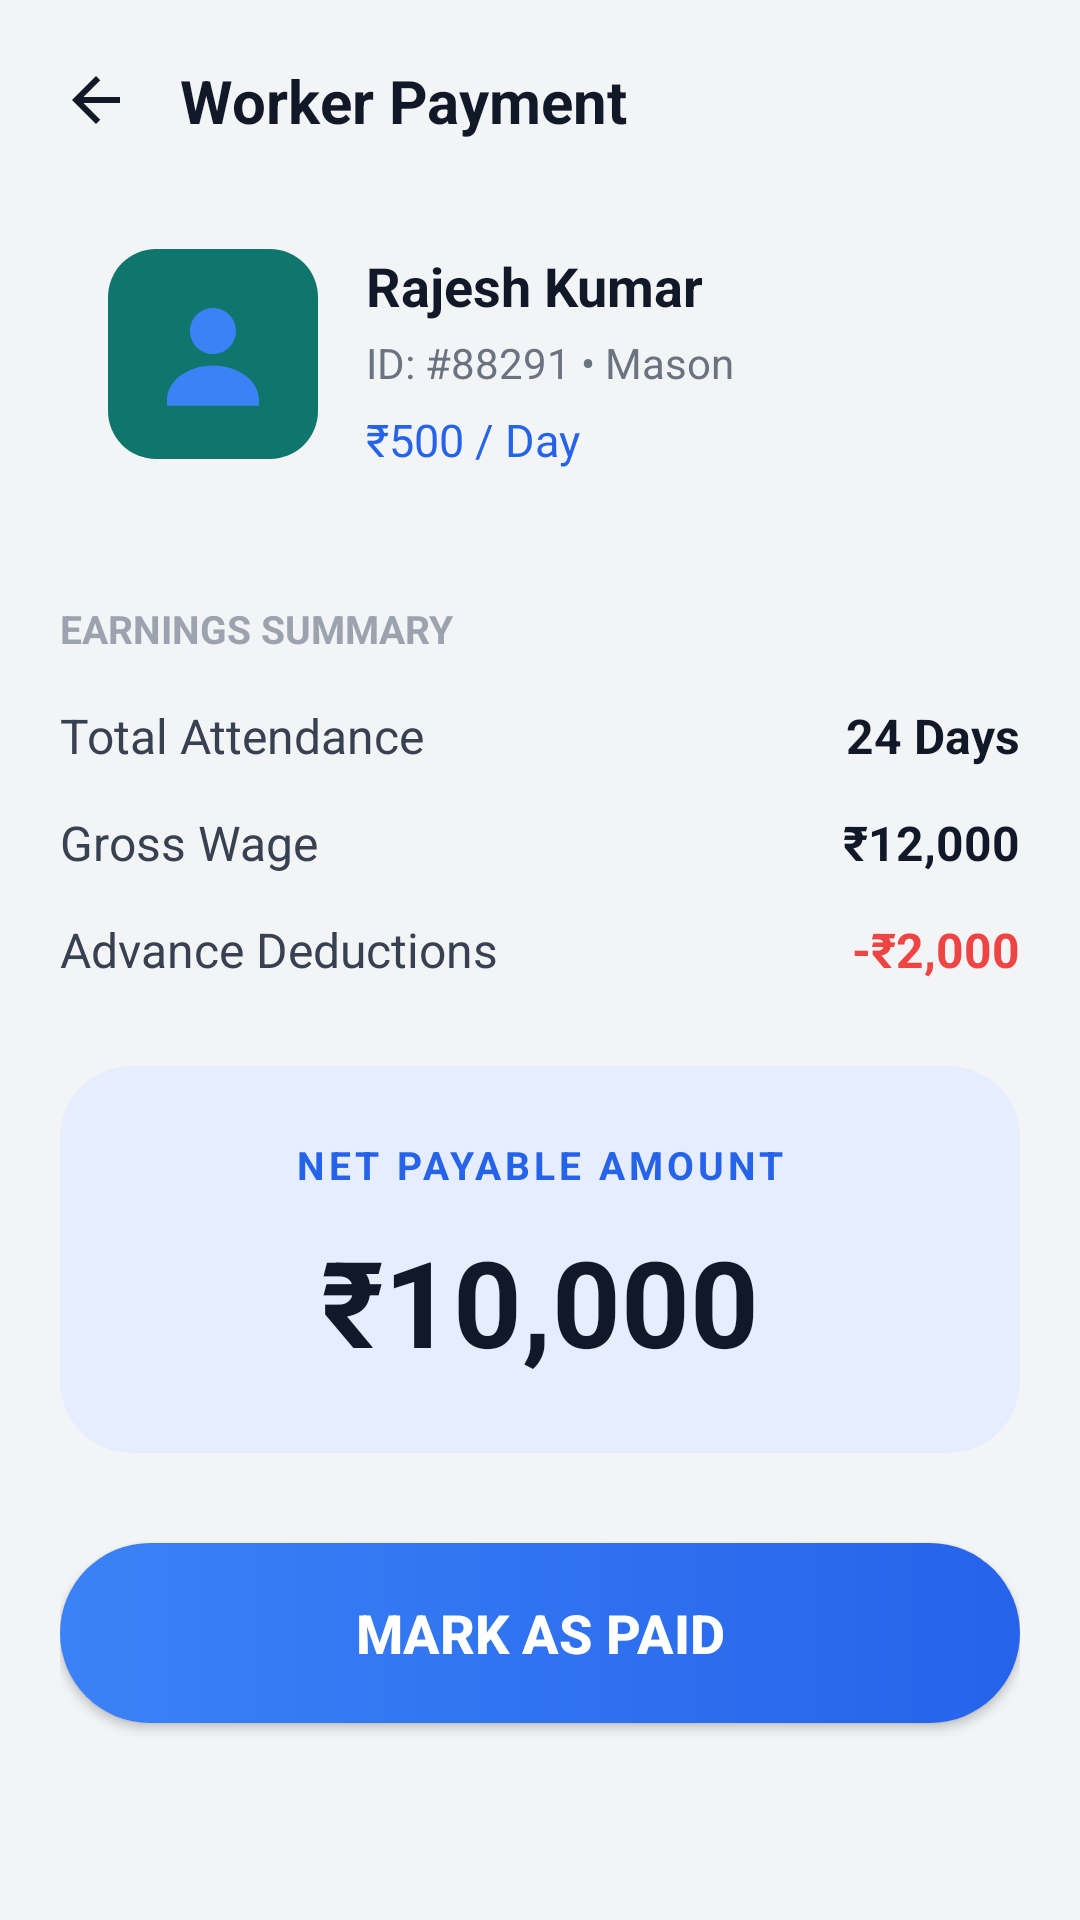

Icons on this 1080×1920 Android screen, each with its box as (x1, y1, x2, y2):
back: (72, 76, 120, 124)
